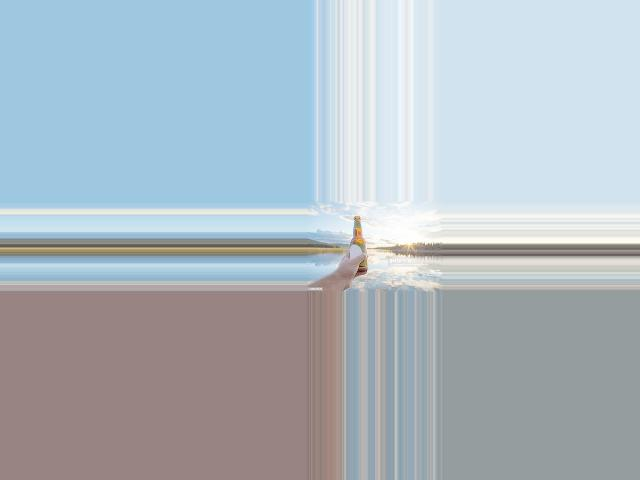beer: (349, 215, 368, 272)
